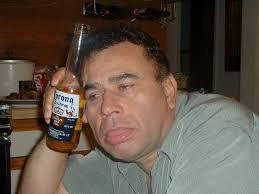Drunk: (77, 51, 163, 158)
